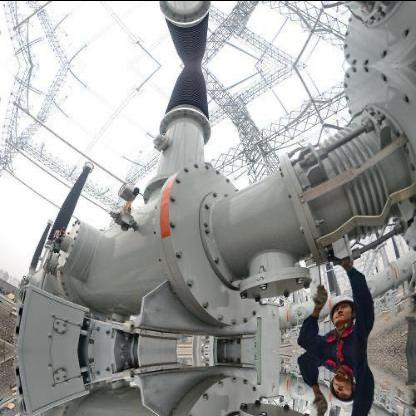Helmet: (326, 287, 354, 329), (326, 369, 354, 411)
